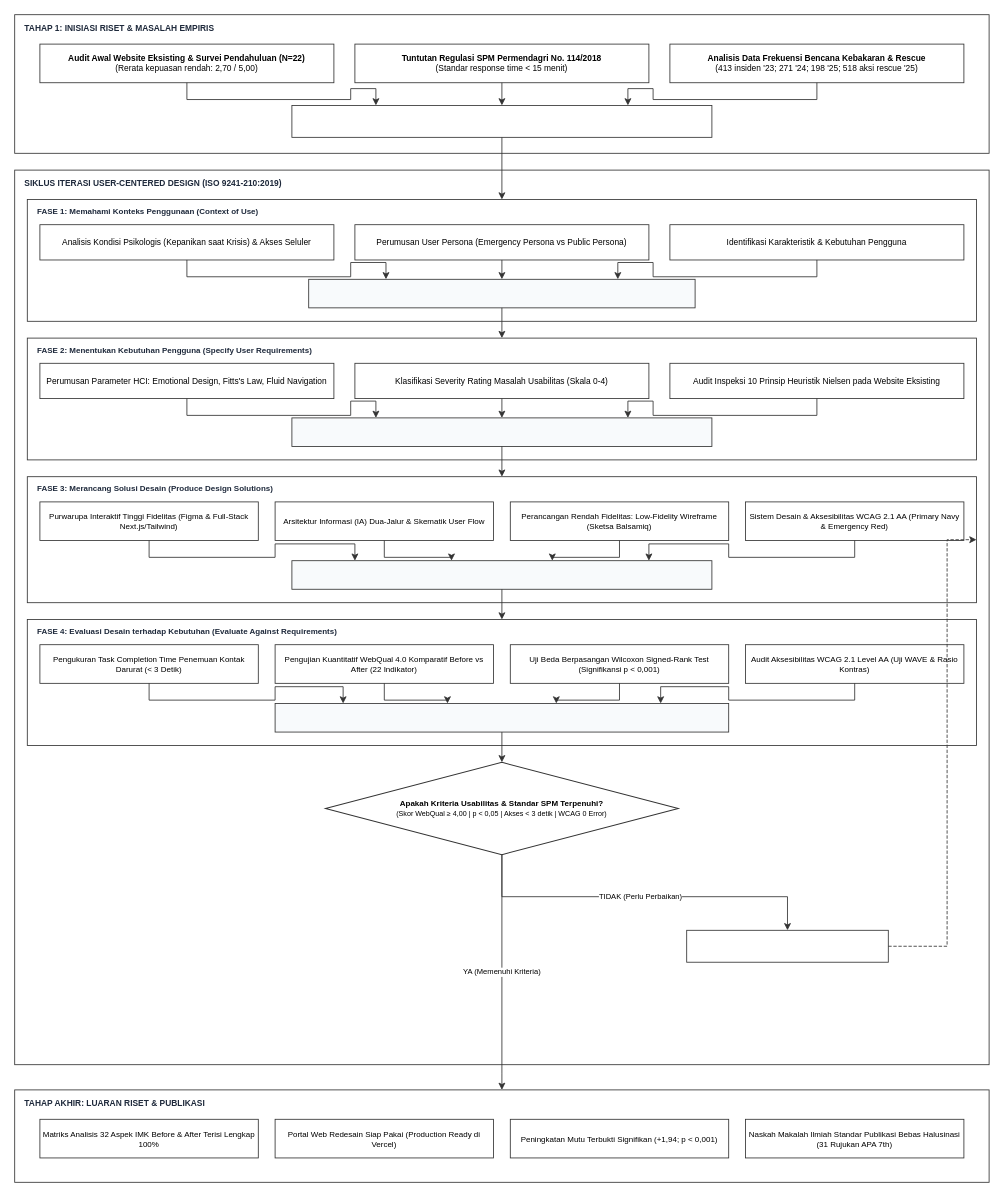
Image size: 1004x1197. Some labels were removed from this diagram. Each missing label, with the centre of its shape:
Identifikasi Masalah & Perumusan Kesenjangan Riset: (501,121)
Iterasi UCD: Penyesuaian Desain & Fitur: (787,945)
Luaran: Live Interactive Prototype Web & Cetak Biru Wireframe: (501,574)
Luaran: Matriks Kebutuhan Pengguna & Dokumen Spesifikasi Desain: (501,431)
Luaran: Peta Konteks Penggunaan & Task Scenarios: (501,293)
Luaran: Skor WebQual 4.0, Output Wilcoxon, & Bukti Bebas Galat WAVE: (501,717)
